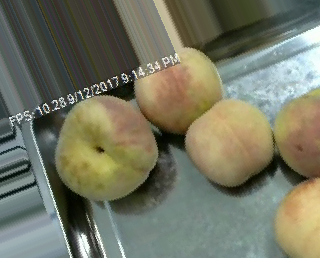Peach: (56, 94, 157, 201), (184, 98, 273, 187), (134, 46, 222, 132)
